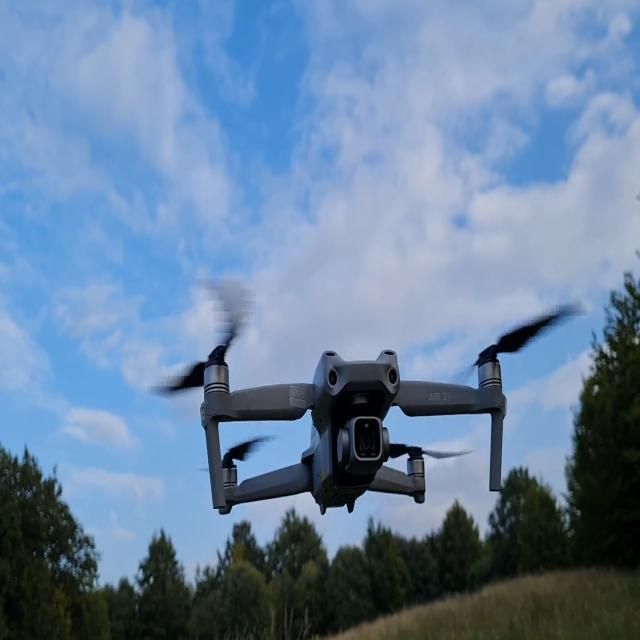drone: (146, 276, 586, 517)
